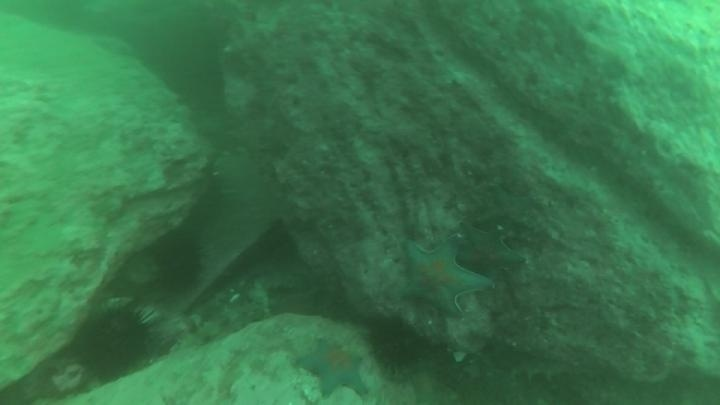echinus: (71, 301, 160, 382), (364, 313, 427, 373), (150, 231, 207, 295)
holothurian: (178, 288, 275, 349), (496, 346, 576, 386)
starfish: (397, 237, 494, 318), (293, 335, 373, 402), (452, 221, 526, 281), (480, 183, 541, 231)
